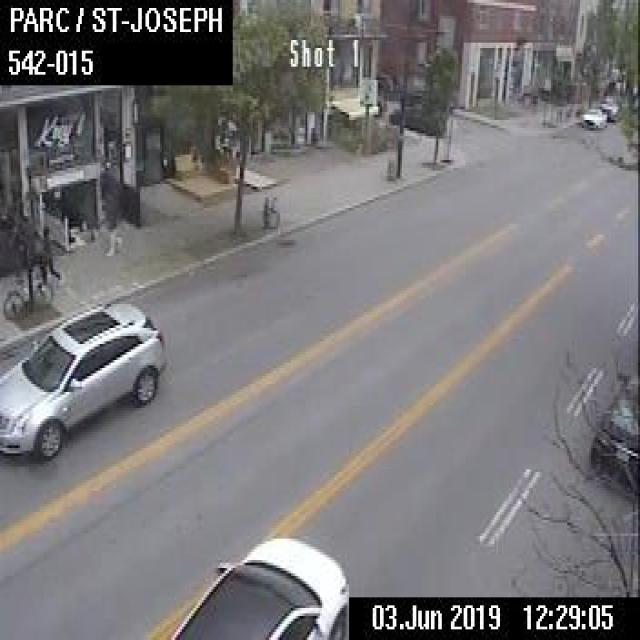pedestrian: (33, 224, 62, 277)
vehicle: (0, 295, 167, 461), (169, 531, 347, 637), (589, 355, 638, 488), (2, 264, 56, 317), (386, 99, 444, 136), (376, 72, 399, 102), (599, 92, 621, 121), (578, 104, 606, 126)
